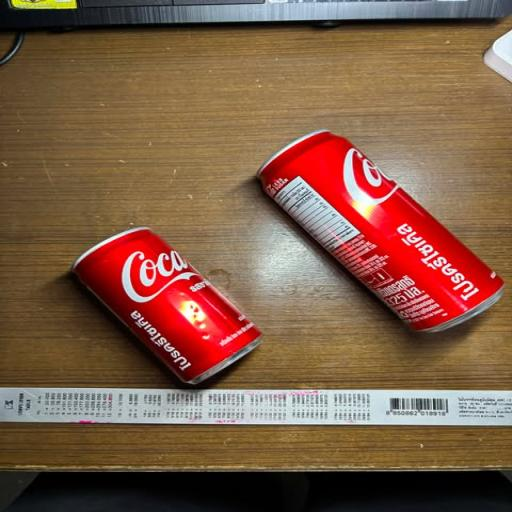canned: (245, 104, 512, 349), (56, 212, 285, 396)
